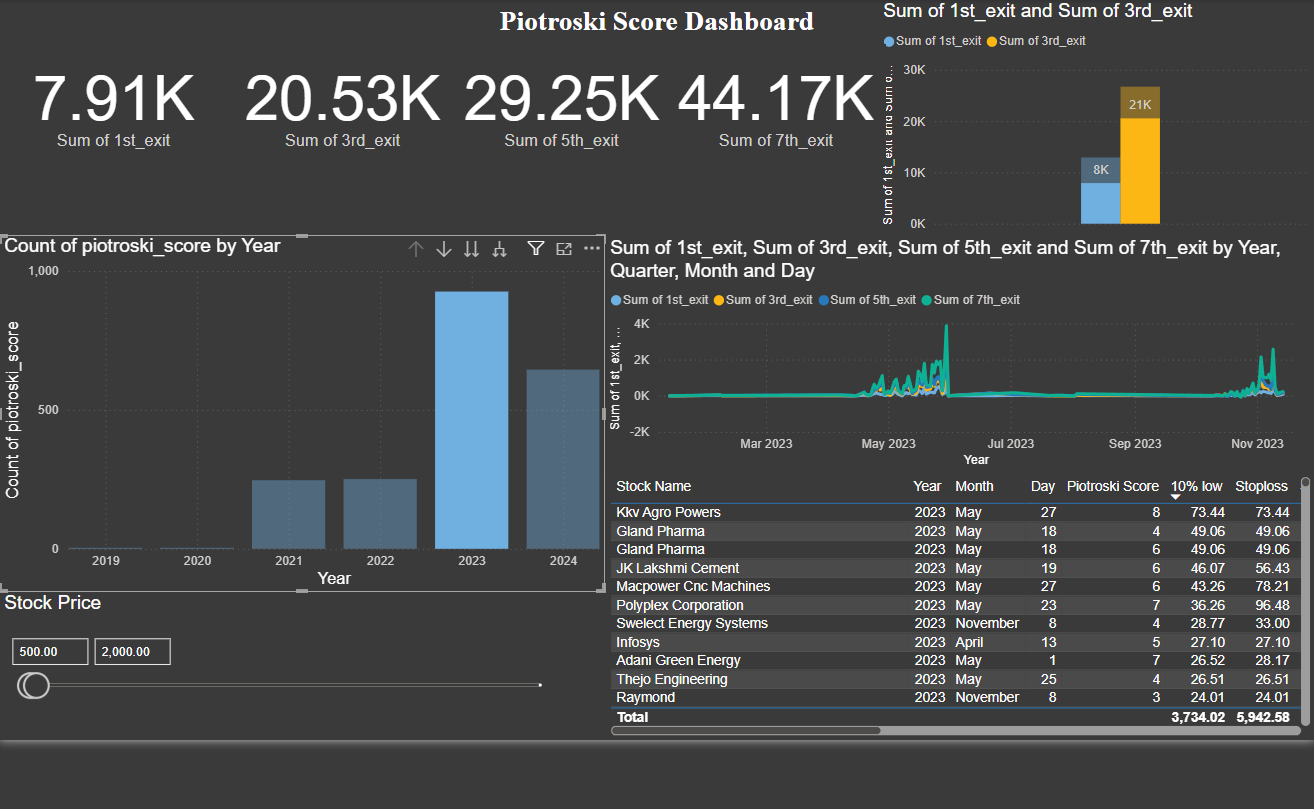

The page's visual inventory and layout, read from the dashboard file:
{"tool":"powerbi","page":{"name":"Page 1","canvas":[1280,720],"ordinal":0},"visuals":[{"type":"textbox","box":[0,0,1280,42.8],"z":0},{"type":"clusteredColumnChart","fields":{"Category":["Backtesting.disclosure_date.Variation.Date Hierarchy.Year","Backtesting.purpose","Backtesting.piotroski_score"],"Y":["CountNonNull(Backtesting.piotroski_score)"]},"box":[0,228.6,589.4,347.2],"z":1000},{"type":"slicer","title":"Stock Price","fields":{"Values":["Backtesting.mean_close"]},"box":[0,575.8,549,144.2],"z":2000},{"type":"tableEx","fields":{"Values":["Backtesting.stock_name","Backtesting.disclosure_date.Variation.Date Hierarchy.Year","Backtesting.disclosure_date.Variation.Date Hierarchy.Month","Backtesting.disclosure_date.Variation.Date Hierarchy.Day","Backtesting.piotroski_score","Sum(Backtesting.lowest_point_1)","Sum(Backtesting.stoploss)","Sum(Backtesting.1st_exit)","Sum(Backtesting.2nd_exit)","Sum(Backtesting.3rd_exit)","Sum(Backtesting.4th_exit)","Sum(Backtesting.5th_exit)"]},"box":[589.7,459.3,690.7,260.7],"z":3000},{"type":"clusteredColumnChart","fields":{"Y":["Sum(Backtesting.1st_exit)","Sum(Backtesting.3rd_exit)"]},"box":[855,0,425,230.5],"z":4000},{"type":"card","fields":{"Values":["Sum(Backtesting.1st_exit)"]},"box":[0,42.8,222.7,112.8],"z":5000},{"type":"card","fields":{"Values":["Sum(Backtesting.3rd_exit)"]},"box":[222.7,42.8,222.7,112.8],"z":6000},{"type":"card","fields":{"Values":["Sum(Backtesting.5th_exit)"]},"box":[445.5,42.8,203.3,112.8],"z":7000},{"type":"card","fields":{"Values":["Sum(Backtesting.7th_exit)"]},"box":[648.8,42.8,214,112.8],"z":8000},{"type":"lineChart","fields":{"Y":["Sum(Backtesting.1st_exit)","Sum(Backtesting.3rd_exit)","Sum(Backtesting.5th_exit)","Sum(Backtesting.7th_exit)"],"Category":["Backtesting.disclosure_date.Variation.Date Hierarchy.Year","Backtesting.disclosure_date.Variation.Date Hierarchy.Quarter","Backtesting.disclosure_date.Variation.Date Hierarchy.Month","Backtesting.disclosure_date.Variation.Date Hierarchy.Day"]},"box":[589.4,230.5,690.6,228.6],"z":9000}]}

Visuals, with their boxes on the page's 1280x720 design canvas (x1, y1, x2, y2). These are canvas units, not pixel positions in the 1314x809 screenshot, which may show the page scaled, cropped or inside an application window:
textbox: (x1=0, y1=0, x2=1280, y2=43)
clusteredColumnChart - Backtesting.disclosure_date.Variation.Date Hierarchy.Year x Backtesting.purpose: (x1=0, y1=229, x2=589, y2=576)
"Stock Price" slicer: (x1=0, y1=576, x2=549, y2=720)
tableEx - Backtesting.stock_name x Backtesting.disclosure_date.Variation.Date Hierarchy.Year: (x1=590, y1=459, x2=1280, y2=720)
clusteredColumnChart - Sum(Backtesting.1st_exit) x Sum(Backtesting.3rd_exit): (x1=855, y1=0, x2=1280, y2=230)
card - Sum(Backtesting.1st_exit): (x1=0, y1=43, x2=223, y2=156)
card - Sum(Backtesting.3rd_exit): (x1=223, y1=43, x2=445, y2=156)
card - Sum(Backtesting.5th_exit): (x1=446, y1=43, x2=649, y2=156)
card - Sum(Backtesting.7th_exit): (x1=649, y1=43, x2=863, y2=156)
lineChart - Sum(Backtesting.1st_exit) x Sum(Backtesting.3rd_exit): (x1=589, y1=230, x2=1280, y2=459)
